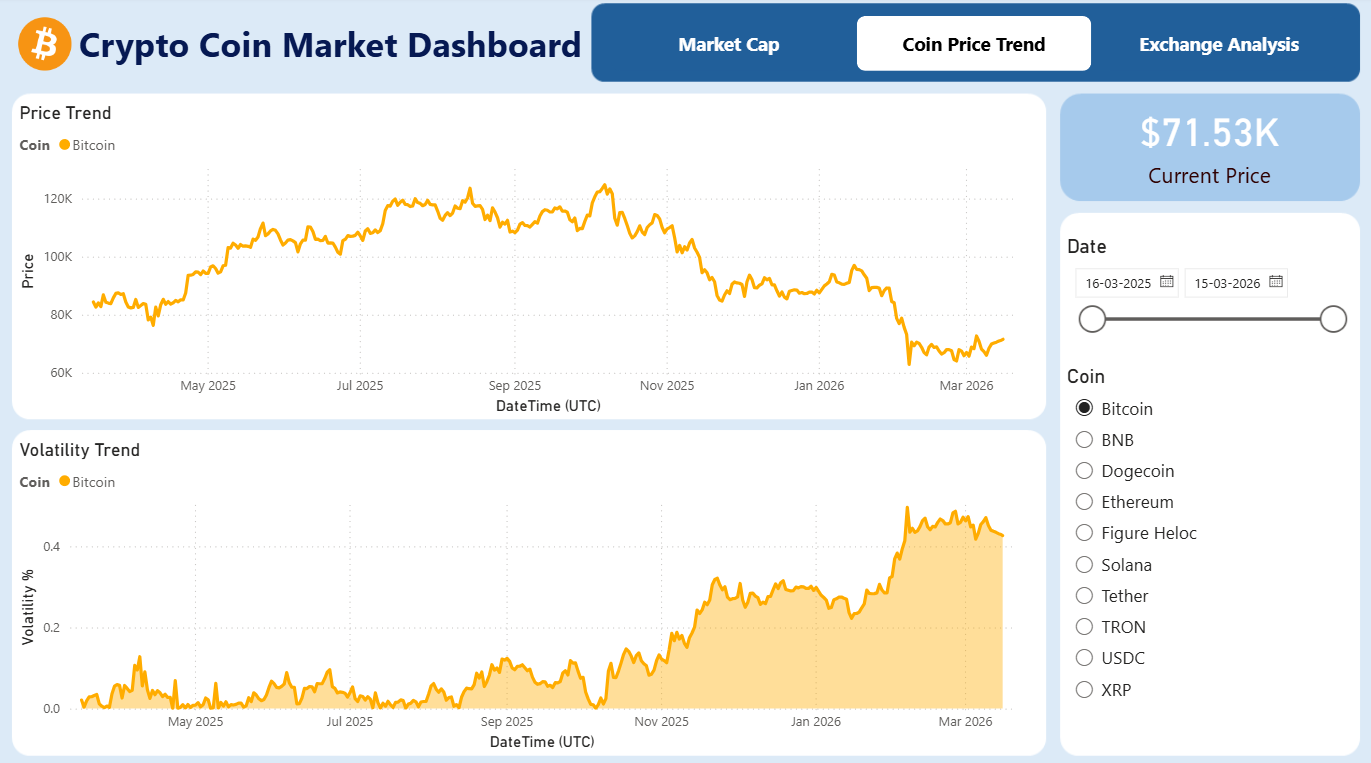

The dashboard page shown, as its layout file describes it:
{"tool":"powerbi","page":{"name":"Coin Price Trend","canvas":[1280,720],"ordinal":1},"visuals":[{"type":"areaChart","title":"Volatility Trend","fields":{"Y":["Sum(Coins History.Volatility %)"],"Series":["Coins History.Name"],"Category":["Coins History.DateTime (UTC)"]},"box":[15.6,411.9,950.7,295],"z":0},{"type":"textbox","title":"CryptoCoin Market Dashboard","box":[14.5,16.9,534.5,56.7],"z":1000},{"type":"image","box":[14.5,19.3,59.1,49.5],"z":2000},{"type":"pageNavigator","box":[570.6,18.1,675.6,51.9],"z":3000},{"type":"lineChart","title":"Price Trend","fields":{"Y":["Sum(Coins History.Price (USD))"],"Series":["Coins History.Name"],"Category":["Coins History.DateTime (UTC)"]},"box":[15.6,98.5,951,295.4],"z":4000},{"type":"card","fields":{"Values":["Coins History.Current Price"]},"box":[988.9,86.7,277.8,98.9],"z":5000},{"type":"slicer","title":"Coin","fields":{"Values":["Coins History.Name"]},"box":[989.3,342.6,272.7,320.9],"z":6000},{"type":"slicer","title":"Date","fields":{"Values":["Coins History.DateTime (UTC)"]},"box":[989.3,222,273.9,97.7],"z":7000}]}

Visuals, with their boxes in screenshot pixels (x1, y1, x2, y2), scaled from the page's 1280x720 canvas onto the 1371x763 screenshot:
"Volatility Trend" areaChart: [left=17, top=436, right=1035, bottom=749]
"CryptoCoin Market Dashboard" textbox: [left=16, top=18, right=588, bottom=78]
image: [left=16, top=20, right=79, bottom=73]
pageNavigator: [left=611, top=19, right=1335, bottom=74]
"Price Trend" lineChart: [left=17, top=104, right=1035, bottom=417]
card - Coins History.Current Price: [left=1059, top=92, right=1357, bottom=197]
"Coin" slicer: [left=1060, top=363, right=1352, bottom=703]
"Date" slicer: [left=1060, top=235, right=1353, bottom=339]
